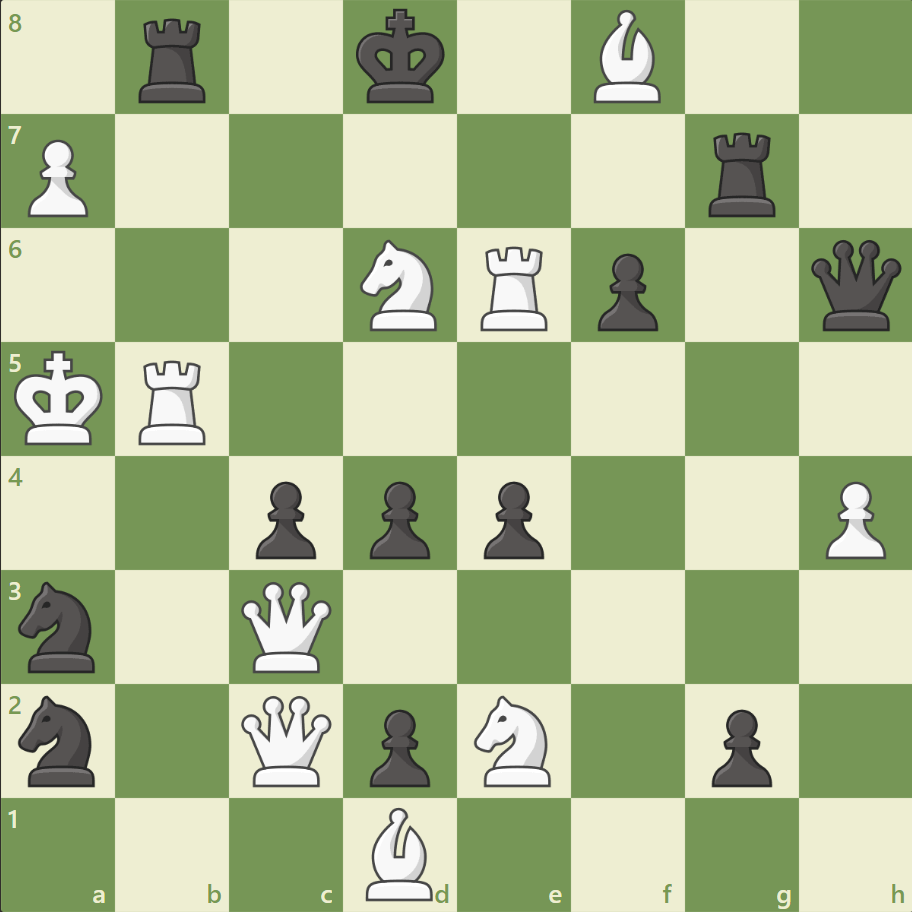B: (585, 6, 669, 109), (358, 801, 442, 904)
K: (11, 344, 111, 452)
N: (351, 234, 449, 337), (465, 688, 562, 791)
P: (20, 132, 95, 223), (815, 473, 889, 564)
Q: (237, 576, 336, 676), (237, 690, 336, 789)
R: (473, 239, 556, 336), (133, 352, 215, 449)
k: (351, 4, 451, 112)
n: (11, 688, 108, 791), (11, 575, 108, 677)
p: (247, 473, 322, 564), (474, 473, 549, 564), (701, 700, 776, 791), (588, 246, 662, 337), (361, 473, 435, 564), (361, 700, 435, 791)
q: (805, 236, 904, 335)
r: (700, 125, 783, 222), (133, 12, 215, 109)
